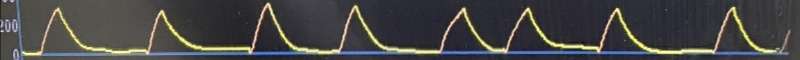normal_volume: (20, 0, 794, 60)
